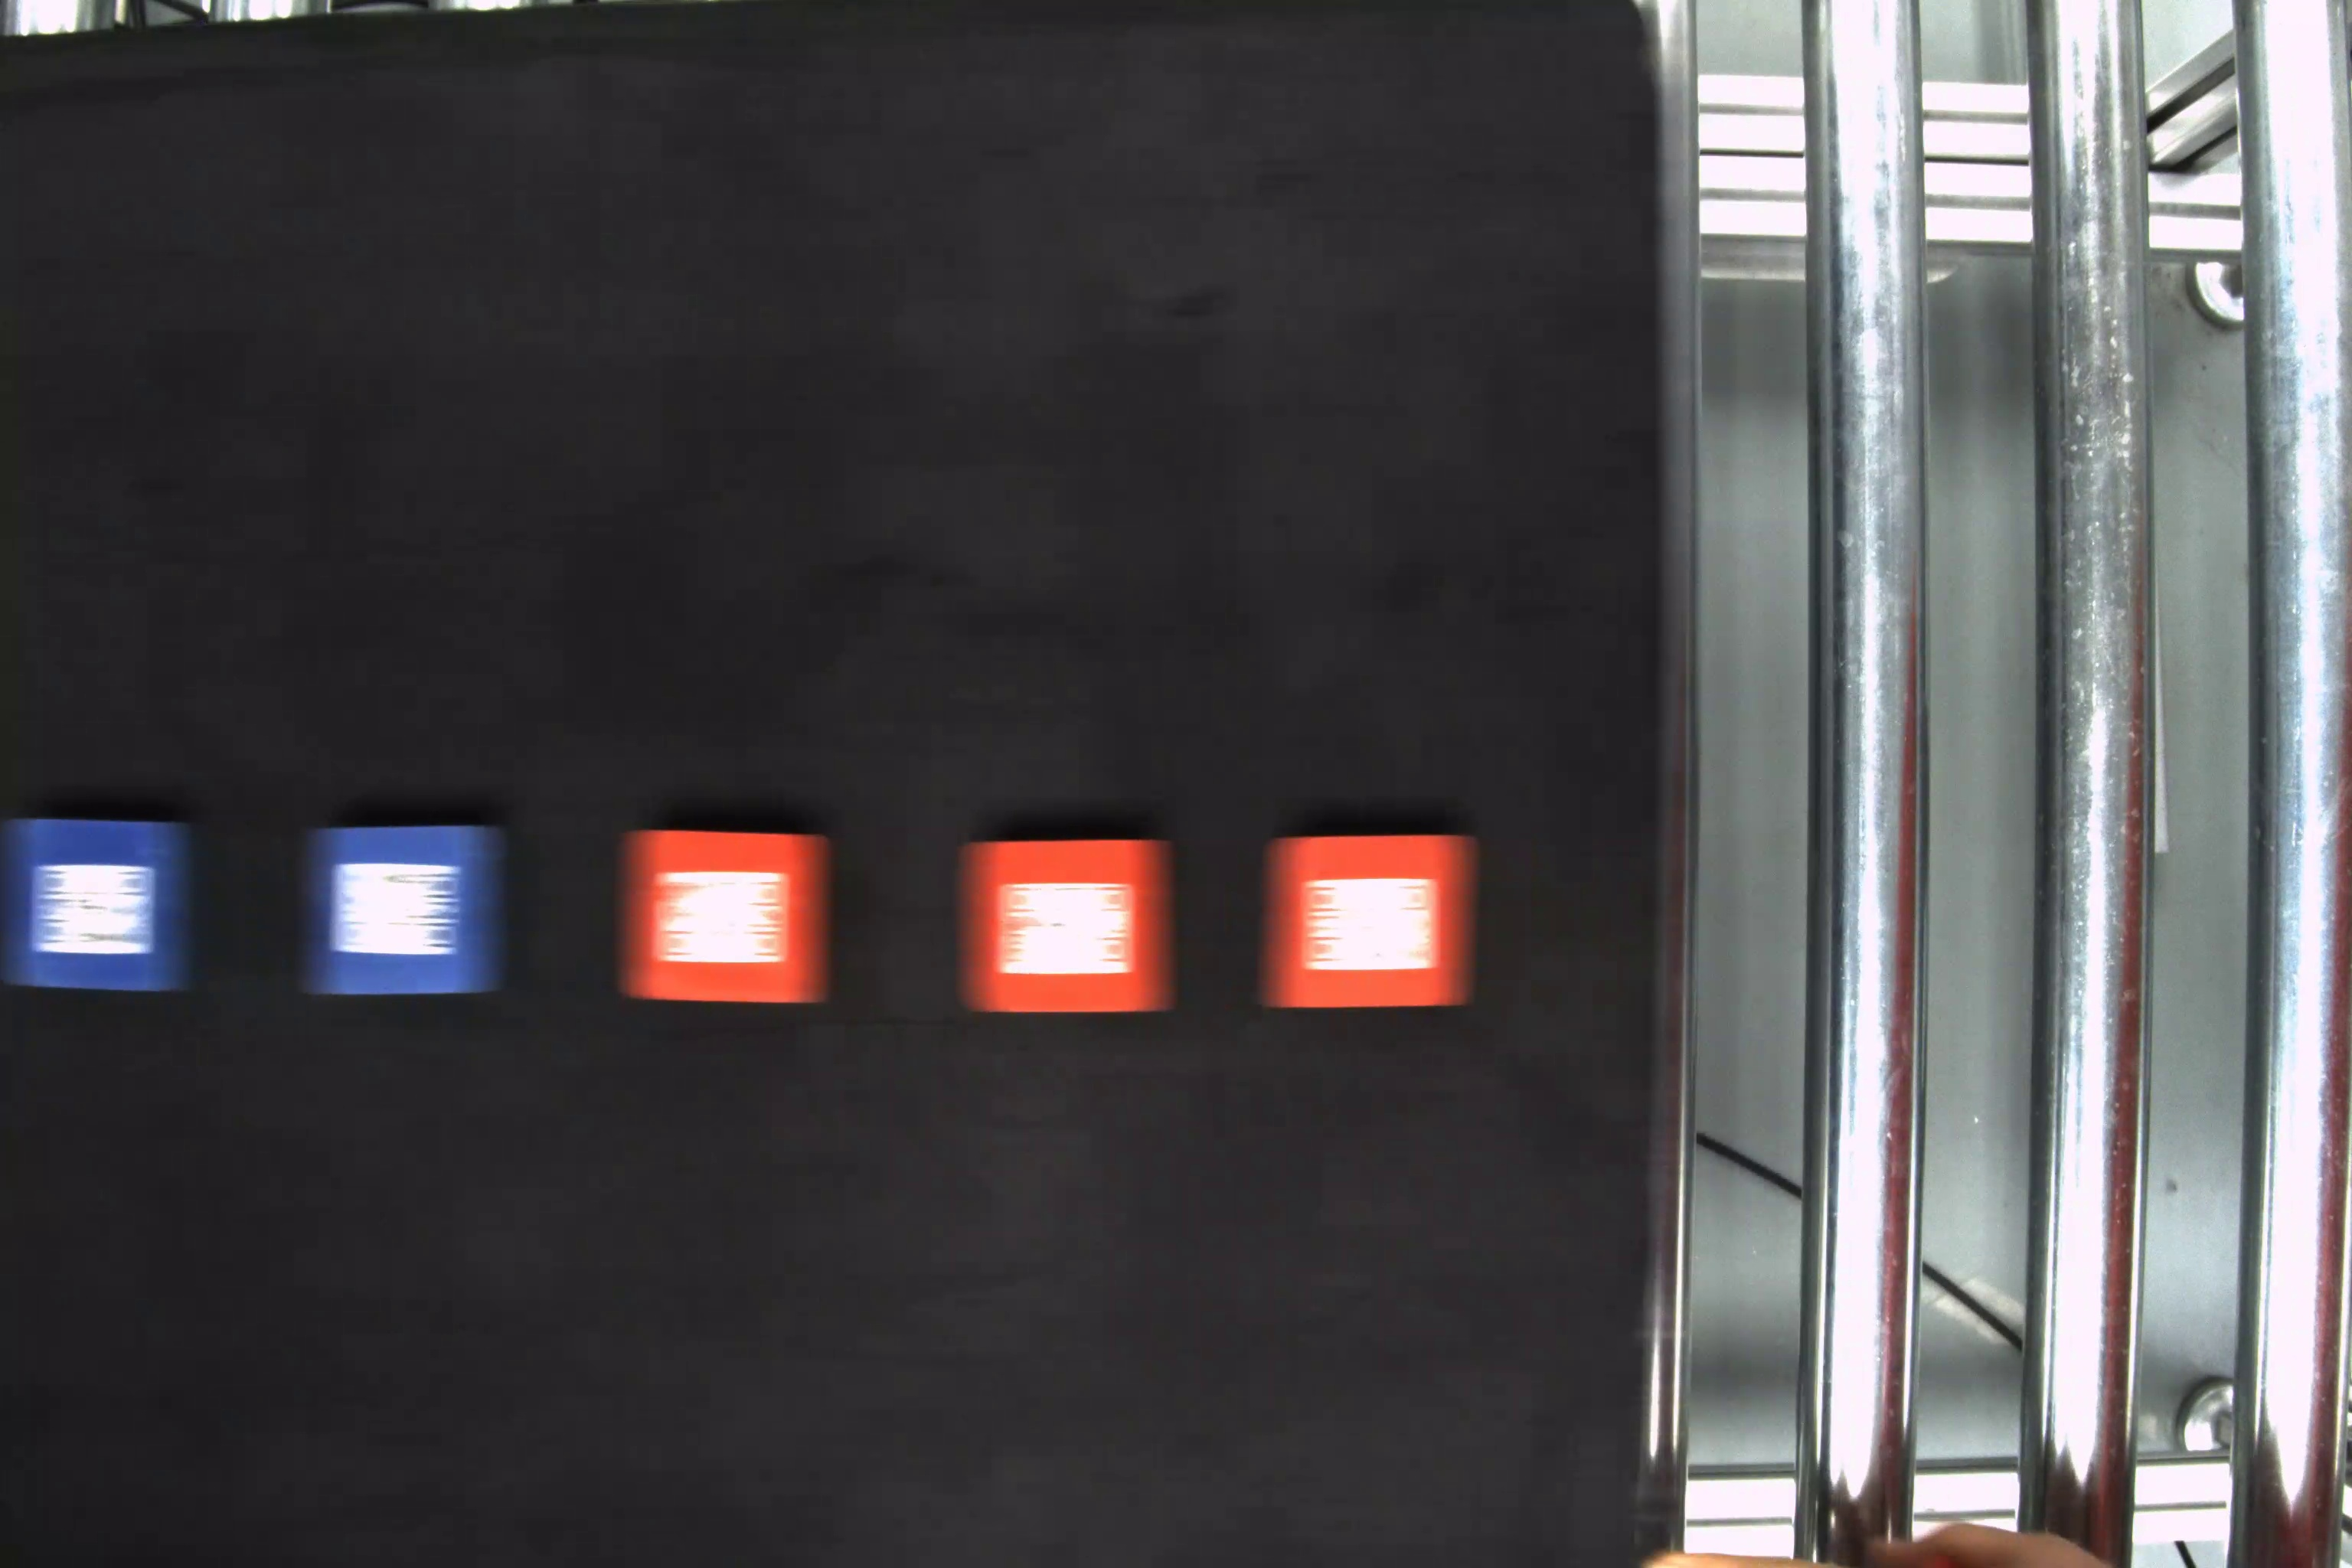wood: (957, 835, 1185, 1018), (616, 824, 842, 1008), (1263, 833, 1487, 1011), (303, 819, 514, 1004), (5, 815, 199, 994)
